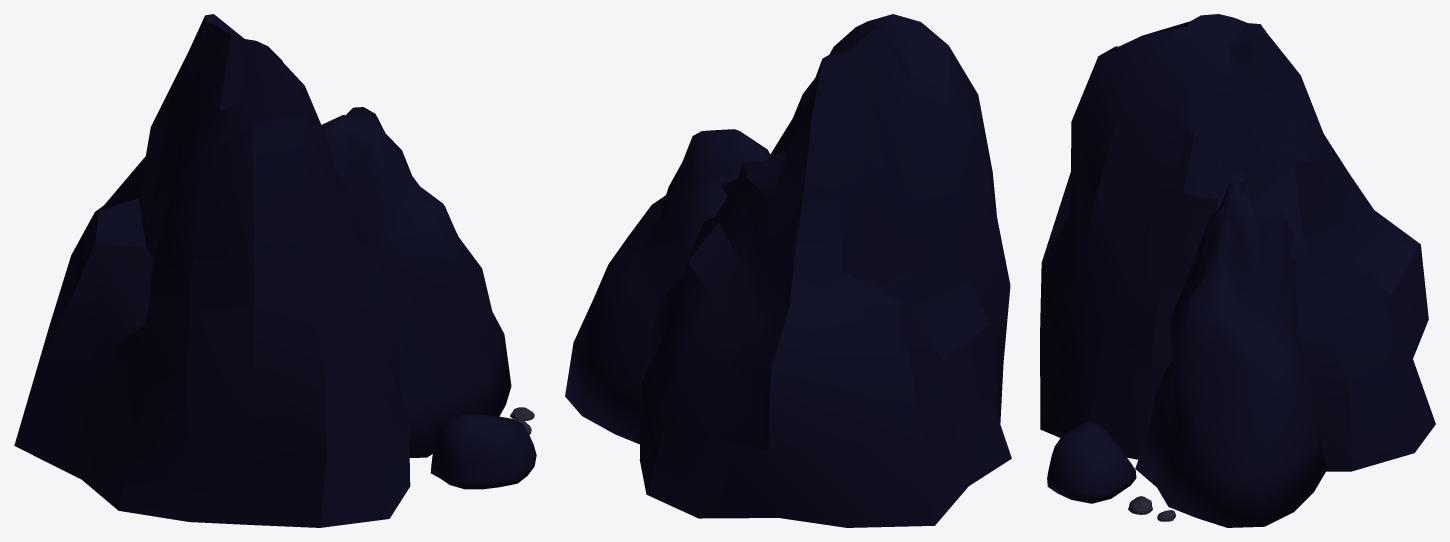
Rendered from RockObstacle.fbx.
3 views of the same model, side by side, from view 1: azimuth 30°, elevation 25°; view 2: azimuth 150°, elevation 25°; view 3: azimuth 270°, elevation 25° (orthographic). The views are drawn at different scales.
Parts seen in each view (by area): view 1: Валун 1, Валун 2, Камень 3; view 2: Валун 1, Валун 2; view 3: Валун 1, Валун 2, Камень 3.
Part boxes in pixels (x1=…): Валун 1: x1=14, y1=14, x2=410, y2=527; Валун 2: x1=321, y1=107, x2=511, y2=457; Камень 3: x1=430, y1=414, x2=536, y2=489; Валун 1: x1=639, y1=14, x2=1011, y2=527; Валун 2: x1=565, y1=129, x2=771, y2=444; Валун 1: x1=1040, y1=14, x2=1435, y2=471; Валун 2: x1=1135, y1=181, x2=1326, y2=527; Камень 3: x1=1047, y1=421, x2=1136, y2=503.
Bounding box in the file's own units: 515 × 493 × 459.
